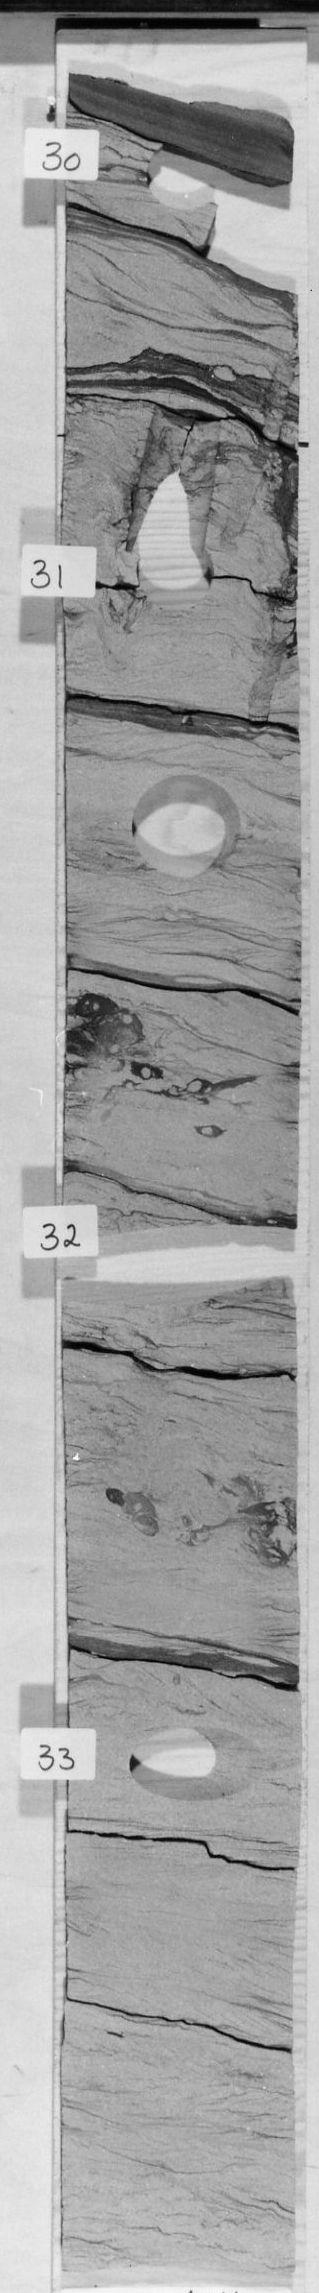hplug: (67, 1208, 290, 1323), (119, 1718, 260, 1806), (117, 551, 234, 619), (135, 127, 214, 222)
scal: (114, 762, 252, 888)
vplug: (117, 393, 224, 557), (202, 145, 297, 310)
